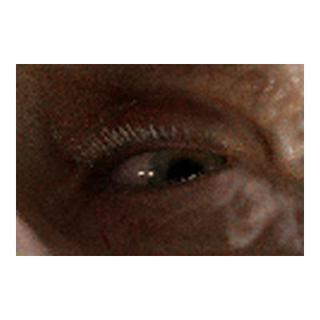pupil: (169, 159, 205, 196)
